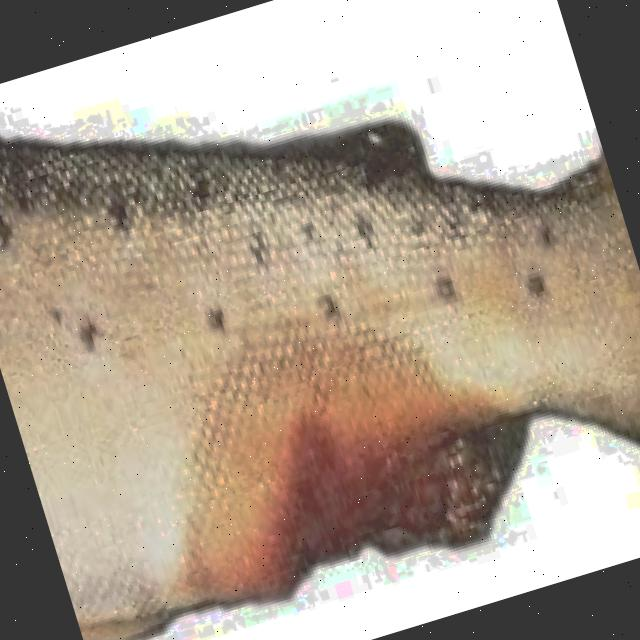Aeromonas Septicemia: (0, 121, 640, 640)
